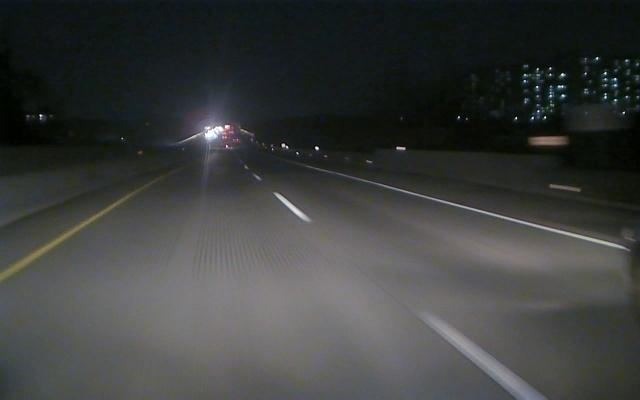lane: (251, 172, 549, 400), (349, 176, 630, 251), (1, 190, 139, 281)
